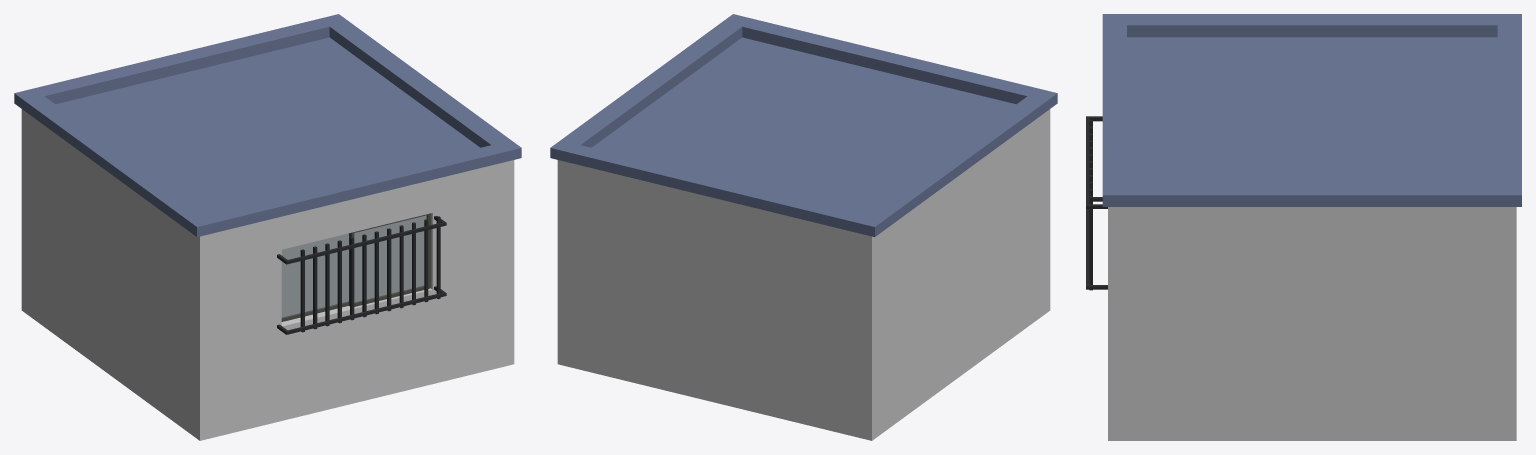
The model's file is house3.fbx.
3 views of the same model, side by side, from view 1: azimuth 30°, elevation 25°; view 2: azimuth 150°, elevation 25°; view 3: azimuth 270°, elevation 25° (orthographic). The views are drawn at different scales.
Parts seen in each view (by area): view 1: polySurface48, polySurface47, polySurface49, polySurface34, polySurface51; view 2: polySurface48, polySurface47; view 3: polySurface48, polySurface47, polySurface34.
Boxes of the visible parts, box(x1,y1,x2,y2) form: polySurface48: box(21, 109, 514, 440); polySurface47: box(14, 14, 521, 237); polySurface49: box(281, 215, 426, 317); polySurface34: box(277, 216, 446, 334); polySurface51: box(281, 213, 430, 321); polySurface48: box(557, 109, 1050, 440); polySurface47: box(550, 14, 1057, 237); polySurface48: box(1108, 207, 1516, 440); polySurface47: box(1102, 14, 1521, 206); polySurface34: box(1086, 116, 1107, 290).
Size of the model in its own units: 39.44 by 25.17 by 40.03.
